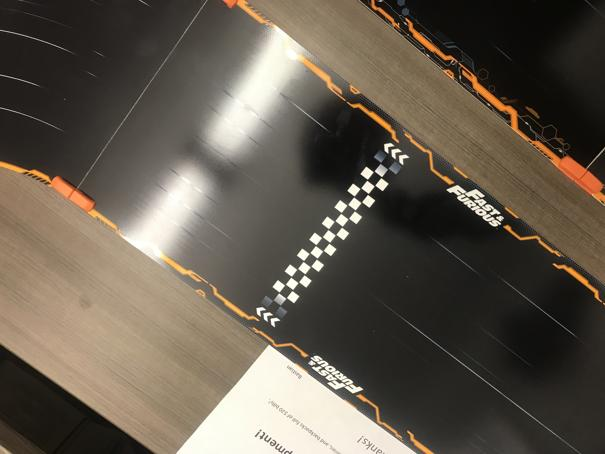Finish Line: (254, 141, 411, 329)
